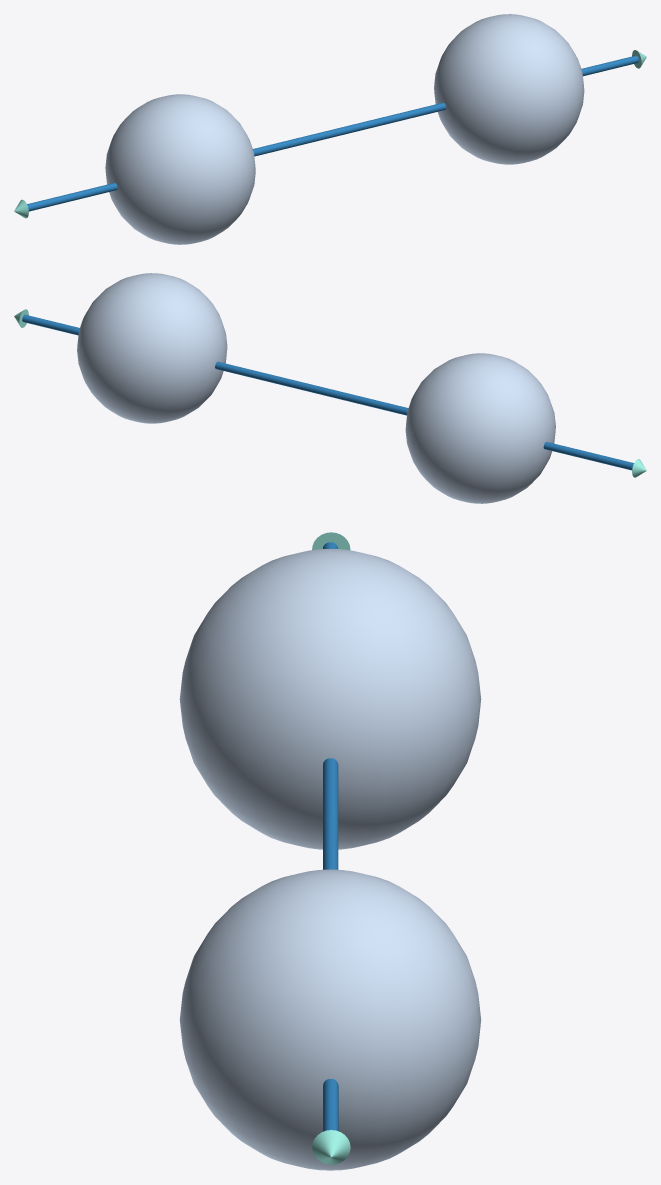
The model's file is sigma_me_ss.glb.
The picture shows the model from 3 angles, top to bottom: view 1: azimuth 30°, elevation 25°; view 2: azimuth 150°, elevation 25°; view 3: azimuth 270°, elevation 25°; orthographic projection. The views are drawn at different scales.
Visible parts, largest first — view 1: VSph003, VSph002, VCyl001; view 2: VSph003, VSph002, VCyl001; view 3: VSph003, VSph002, VCyl001, VCone001.
Part boxes in pixels (x1,y1,x2,y2): VSph003: (105,94,255,244); VSph002: (434,14,584,164); VCyl001: (27,55,638,211); VSph003: (405,353,555,503); VSph002: (77,273,227,423); VCyl001: (22,314,633,470); VSph003: (179,548,481,849); VSph002: (179,869,481,1170); VCyl001: (323,542,338,1131); VCone001: (312,1130,350,1164).
Bounding box in the file's own units: 9.77 × 2.02 × 2.02.
